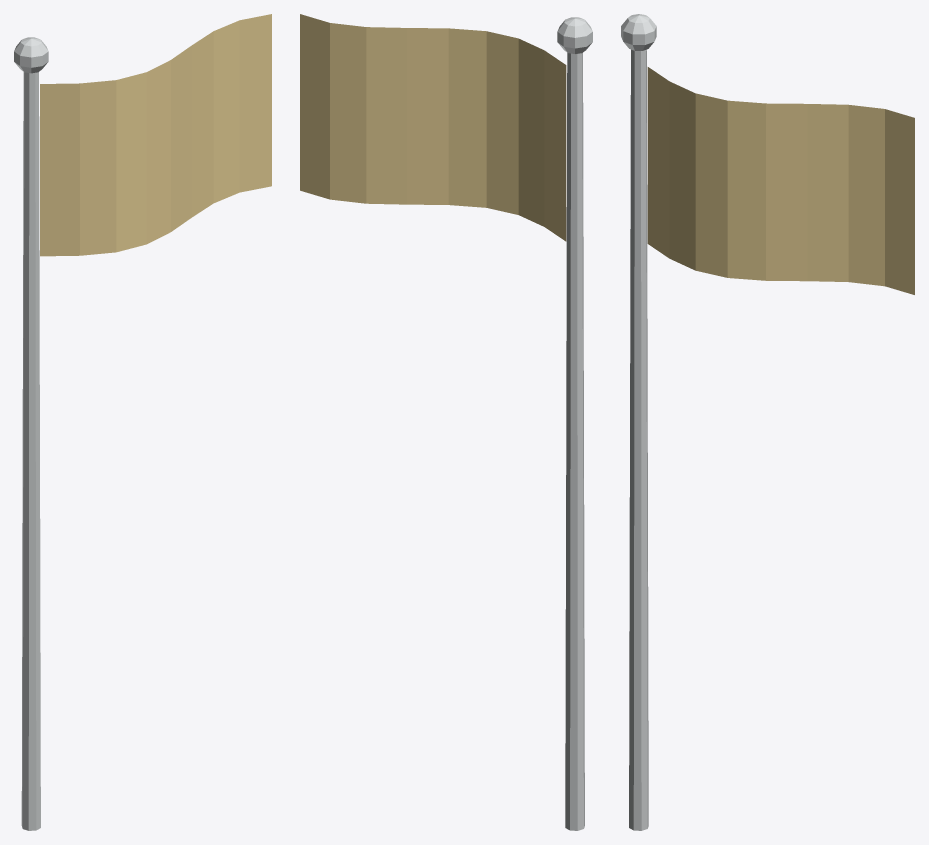
The model's file is summit_flag.glb.
3 views of the same model, side by side, from view 1: azimuth 30°, elevation 25°; view 2: azimuth 150°, elevation 25°; view 3: azimuth 330°, elevation 25° (orthographic). The views are drawn at different scales.
Parts seen in each view (by area): view 1: summit_flag; view 2: summit_flag; view 3: summit_flag.
Boxes of the visible parts, bbox=[...] form: summit_flag: bbox=[14, 14, 271, 830]; summit_flag: bbox=[300, 14, 592, 830]; summit_flag: bbox=[621, 14, 914, 830].
Size of the model in its own units: 1.09 by 3.07 by 0.2145.
